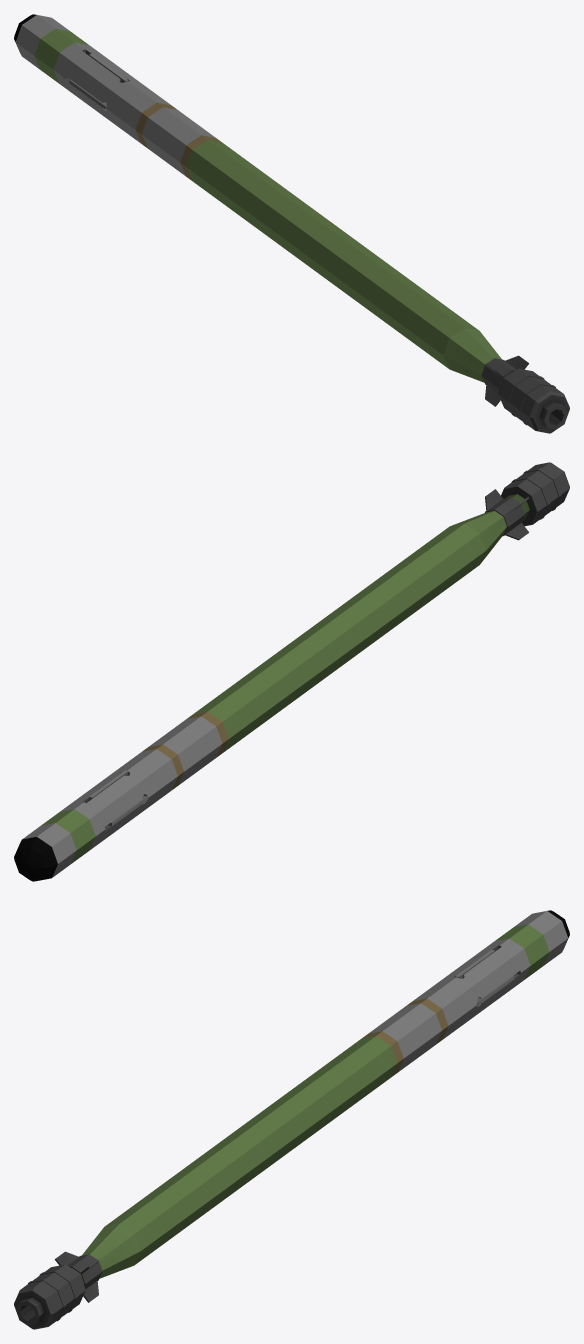
The model's file is aam_stinger.glb.
3 renders of one model, top to bottom at view 1: azimuth 30°, elevation 25°; view 2: azimuth 150°, elevation 25°; view 3: azimuth 330°, elevation 25°, orthographic.
Visible parts, largest first — view 1: body|FIM-92_Stinger_Missile_1_Material_1, body|FIM-92_Stinger_Missile_1_Material_3, body|FIM-92_Stinger_Missile_1_Material_5, body|FIM-92_Stinger_Missile_1_Material_2; view 2: body|FIM-92_Stinger_Missile_1_Material_1, body|FIM-92_Stinger_Missile_1_Material_3, body|FIM-92_Stinger_Missile_1_Material_5, body|FIM-92_Stinger_Missile_1_Material_4, body|FIM-92_Stinger_Missile_1_Material_2; view 3: body|FIM-92_Stinger_Missile_1_Material_1, body|FIM-92_Stinger_Missile_1_Material_3, body|FIM-92_Stinger_Missile_1_Material_5, body|FIM-92_Stinger_Missile_1_Material_2.
Part boxes in pixels (box(x1,y1,x2,y2)): body|FIM-92_Stinger_Missile_1_Material_1: box(34, 28, 511, 387); body|FIM-92_Stinger_Missile_1_Material_3: box(15, 15, 215, 176); body|FIM-92_Stinger_Missile_1_Material_5: box(481, 355, 569, 433); body|FIM-92_Stinger_Missile_1_Material_2: box(135, 102, 221, 180); body|FIM-92_Stinger_Missile_1_Material_1: box(41, 494, 529, 863); body|FIM-92_Stinger_Missile_1_Material_3: box(22, 716, 222, 877); body|FIM-92_Stinger_Missile_1_Material_5: box(485, 462, 569, 540); body|FIM-92_Stinger_Missile_1_Material_4: box(14, 836, 57, 881); body|FIM-92_Stinger_Missile_1_Material_2: box(142, 712, 228, 789); body|FIM-92_Stinger_Missile_1_Material_1: box(72, 924, 549, 1283); body|FIM-92_Stinger_Missile_1_Material_3: box(368, 911, 568, 1072); body|FIM-92_Stinger_Missile_1_Material_5: box(14, 1251, 102, 1329); body|FIM-92_Stinger_Missile_1_Material_2: box(362, 998, 448, 1076).
Bounding box in the file's own units: 0.0708 × 0.0708 × 1.52.
